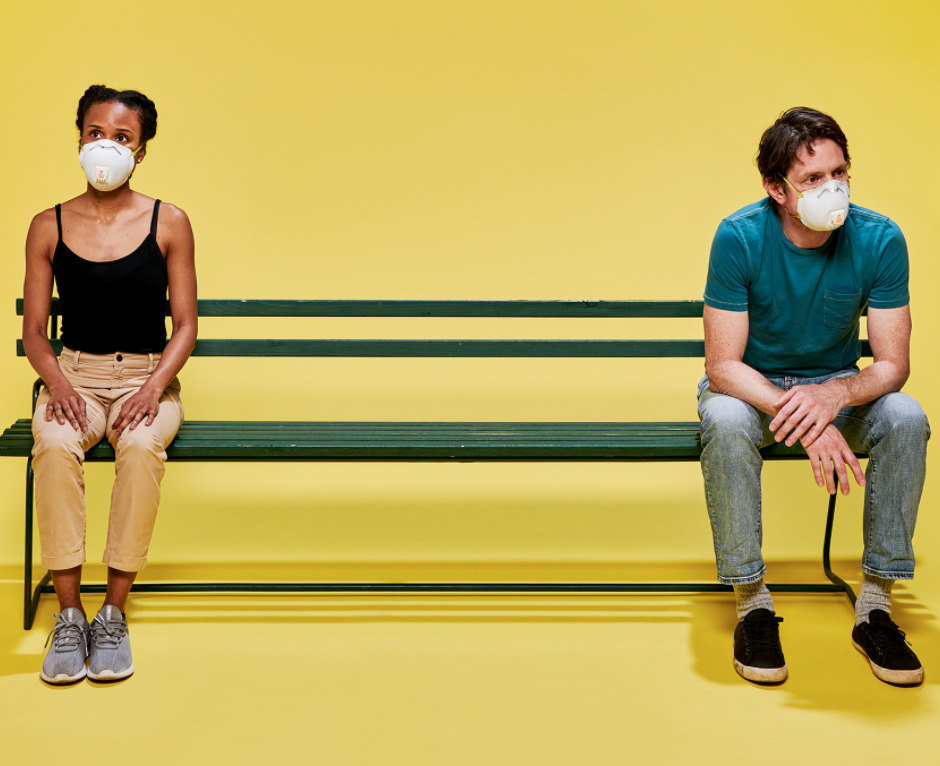Good: (18, 81, 929, 691)
